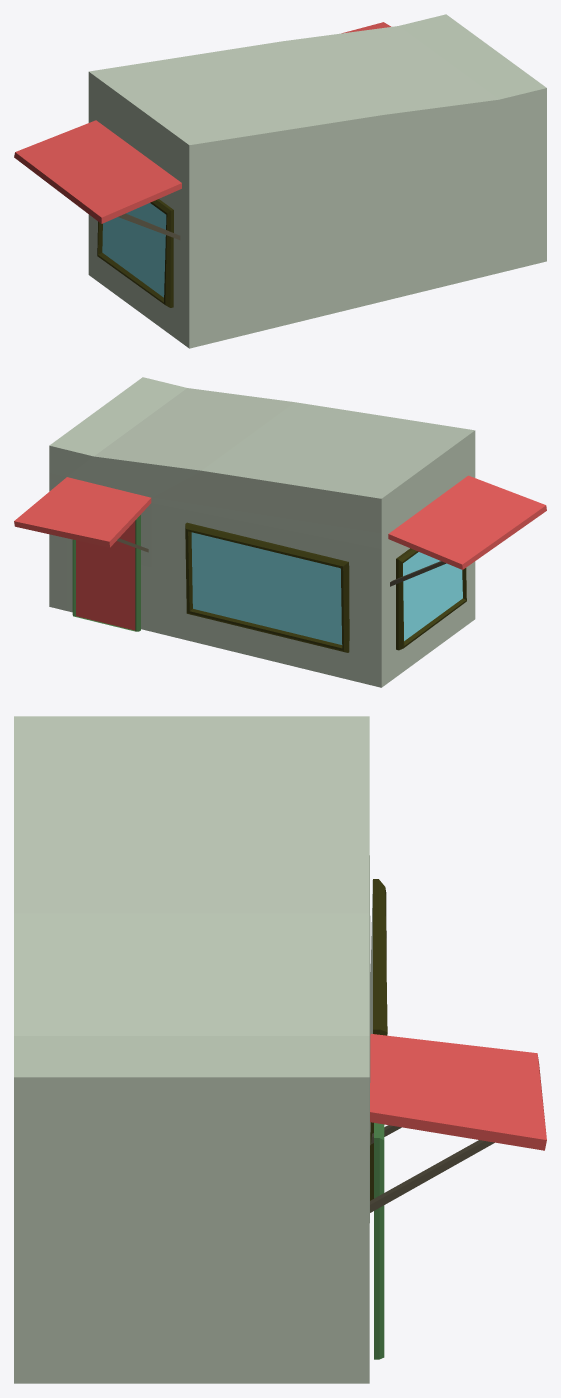
File: TestBuilding.fbx
3 renders of one model, top to bottom at view 1: azimuth 30°, elevation 25°; view 2: azimuth 150°, elevation 25°; view 3: azimuth 270°, elevation 25°, orthographic. The views are drawn at different scales.
Visible parts, largest first — view 1: BuildingBase; view 2: BuildingBase; view 3: BuildingBase.
Part boxes in pixels (bbox=[...]): BuildingBase: bbox=[14, 14, 546, 348]; BuildingBase: bbox=[14, 377, 546, 687]; BuildingBase: bbox=[14, 716, 546, 1383].
Bounding box in the file's own units: 5046 × 2229 × 2998.
